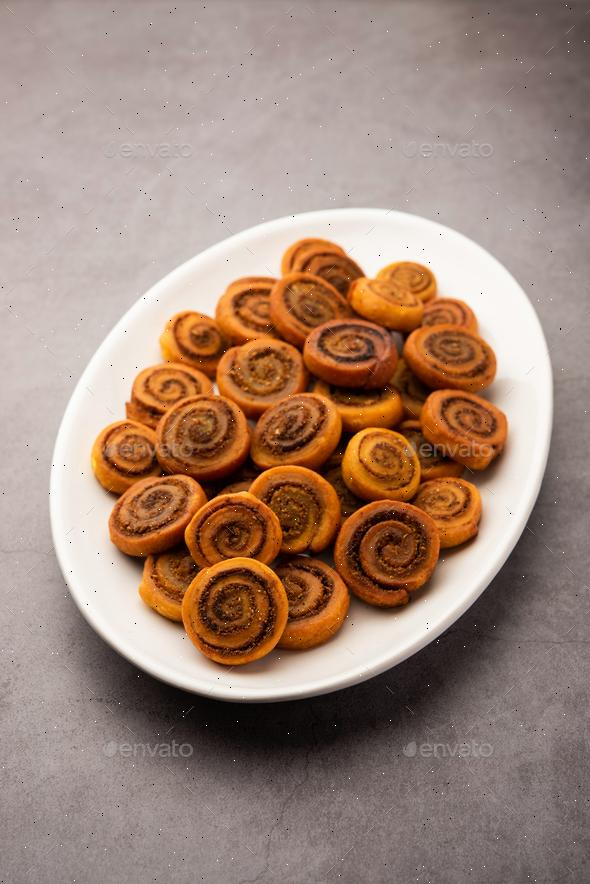bhakarwadi: (87, 237, 506, 659)
